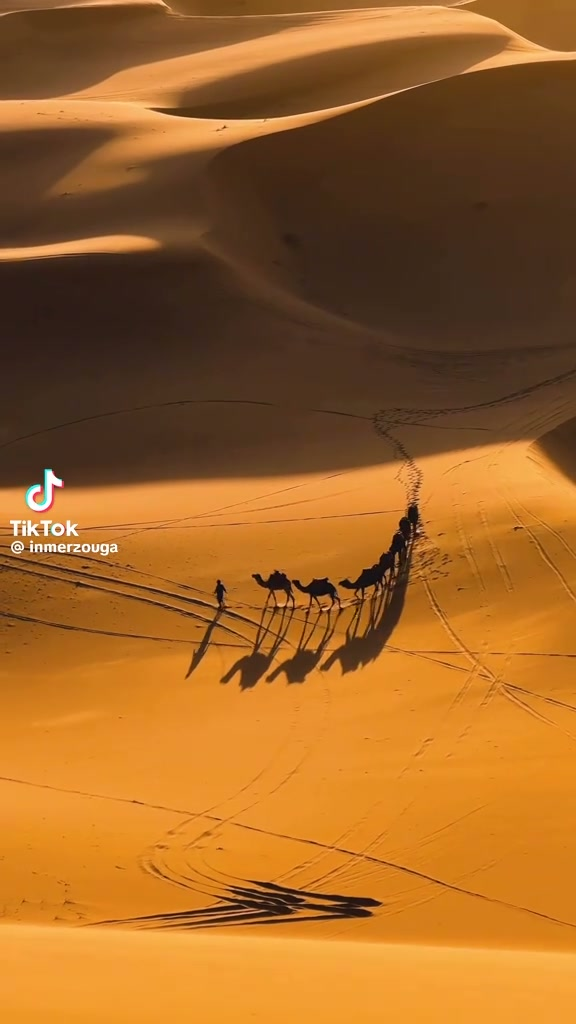animal: (339, 563, 383, 599), (252, 570, 294, 606), (292, 577, 340, 606), (378, 550, 394, 581), (390, 531, 405, 563), (407, 503, 419, 532), (398, 516, 411, 541)
human: (214, 579, 226, 608)
vehicle_track: (140, 668, 330, 896), (140, 682, 329, 895), (235, 823, 575, 928), (1, 398, 369, 450), (0, 398, 369, 449), (116, 471, 346, 539), (91, 876, 380, 930), (362, 855, 575, 928), (363, 855, 575, 928), (0, 553, 213, 624), (395, 630, 485, 782), (5, 556, 208, 623), (423, 579, 512, 728), (9, 557, 209, 623), (375, 366, 575, 428), (491, 458, 574, 599), (502, 493, 575, 602), (481, 659, 574, 739), (0, 611, 189, 645), (145, 509, 387, 530), (446, 619, 500, 705), (142, 815, 205, 887), (374, 411, 422, 503), (373, 415, 422, 504), (501, 683, 575, 740), (514, 493, 575, 560), (515, 496, 575, 560), (375, 417, 421, 500), (451, 494, 486, 593), (479, 501, 513, 592), (506, 684, 575, 711), (82, 518, 179, 531)
